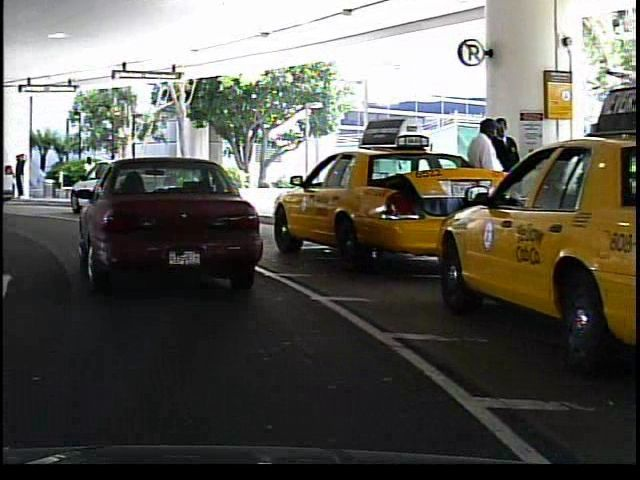person: (464, 113, 506, 245), (490, 113, 530, 241), (76, 152, 101, 197), (9, 145, 28, 203)
